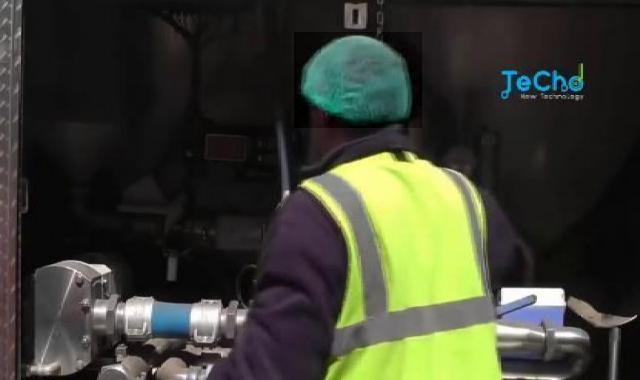gloves: (294, 32, 422, 128)
